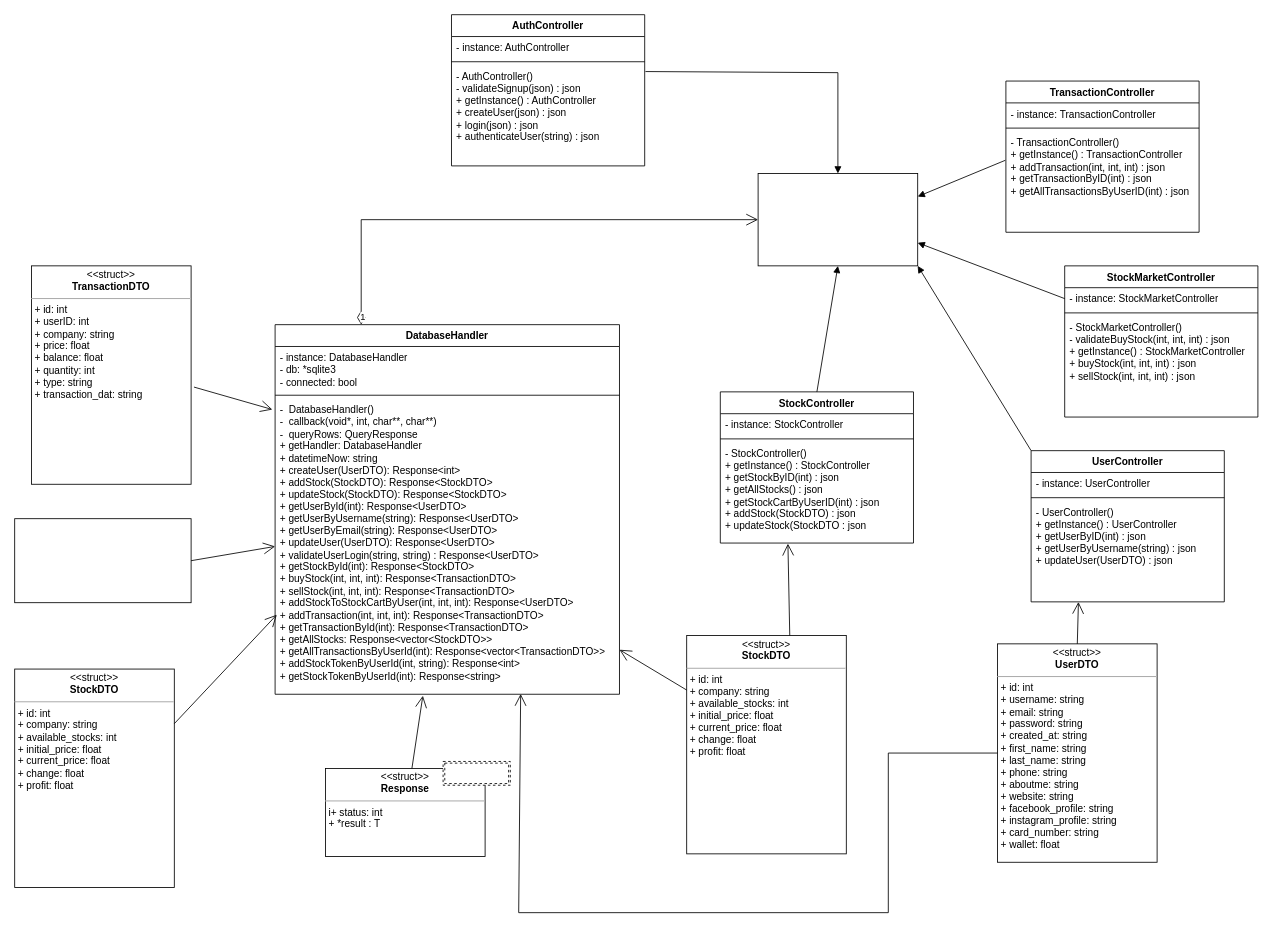
This 1273x939 diagram has some shape labels left out. The shapes that lost their labels are listed below. From the top down, each one's box as (x1, y1, x2, y2) in pixels, then its label:
(757, 173, 918, 266): <<Interface>> BaseController # db_handler: DatabaseHandler
(14, 518, 191, 603): <<struct>> QueryResponse + ok: bool + rows: vector<map<string, string>>
(442, 761, 510, 785): T: template
